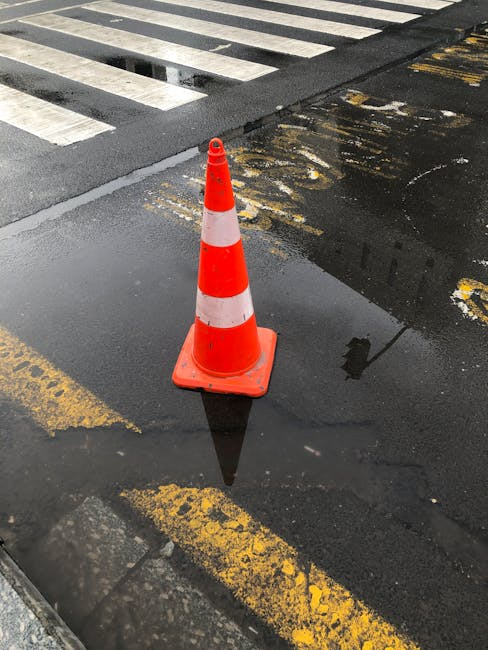traffic_cone: (171, 137, 278, 398)
